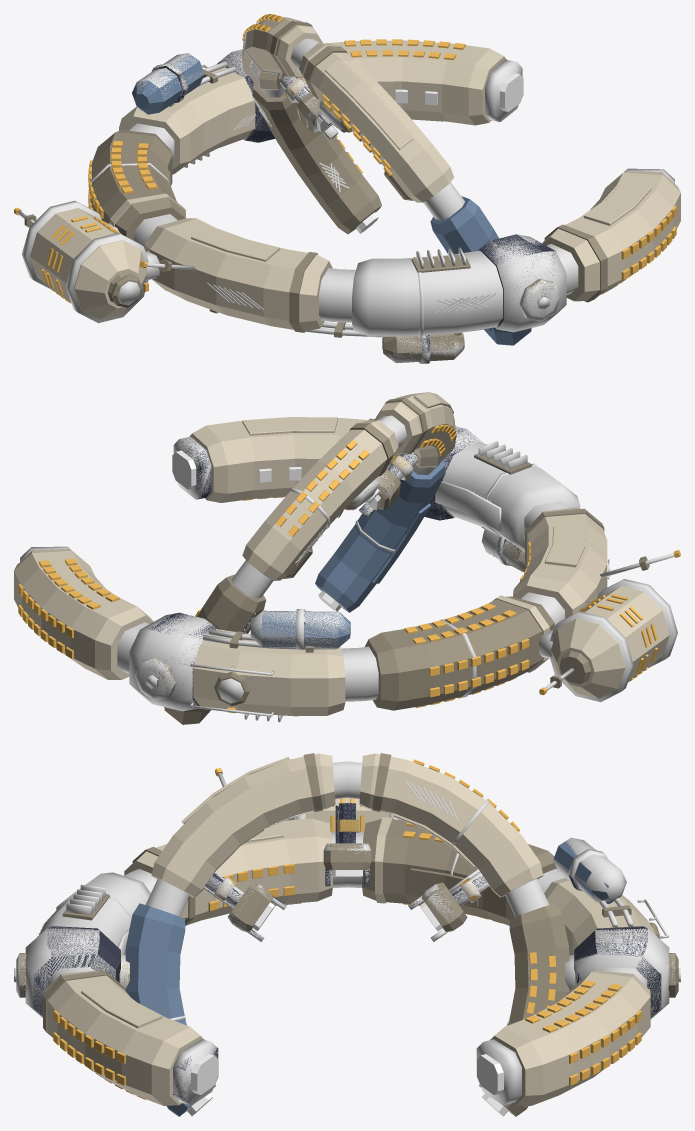
Rendered from gate4-repair-station.fbx.
The picture shows the model from 3 angles, top to bottom: view 1: azimuth 30°, elevation 25°; view 2: azimuth 150°, elevation 25°; view 3: azimuth 270°, elevation 25°; orthographic projection. The views are drawn at different scales.
Visible parts, largest first — view 1: Outer ring / bone, Outer ring / contour, Inner ring / bone, Inner ring / canvas, Crew pod / bone, Outer ring / canvas, Bearing B / contour, Outer ring / win, Outer ring / bone / fine, Outer ring / canvas / fine, Crew pod / contour, Inner ring / blue (+18 smaller); view 2: Outer ring / bone, Inner ring / bone, Outer ring / canvas, Outer ring / contour, Crew pod / bone, Inner ring / blue, Outer ring / win, Outer ring / contour fine, Bearing A / contour, Outer ring / bone / fine, Tank A / contour, Crew pod / contour (+18 smaller); view 3: Outer ring / bone, Inner ring / bone, Outer ring / canvas, Inner ring / blue, Outer ring / win, Inner ring / canvas, Outer ring / contour, Bearing A / contour, Bearing B / contour, Inner ring / contour, Bearing B / slate, Outer ring / bone / fine (+20 smaller).
Part boxes in pixels (bbox=[...]): Outer ring / bone: bbox=[119, 40, 680, 331]; Outer ring / contour: bbox=[129, 78, 578, 336]; Inner ring / bone: bbox=[242, 17, 454, 202]; Inner ring / canvas: bbox=[252, 82, 381, 234]; Crew pod / bone: bbox=[30, 208, 147, 319]; Outer ring / canvas: bbox=[92, 130, 185, 240]; Bearing B / contour: bbox=[484, 234, 566, 332]; Outer ring / win: bbox=[88, 39, 676, 294]; Outer ring / bone / fine: bbox=[110, 119, 651, 261]; Outer ring / canvas / fine: bbox=[158, 69, 607, 337]; Crew pod / contour: bbox=[22, 200, 159, 323]; Inner ring / blue: bbox=[430, 196, 531, 345]; Outer ring / bone: bbox=[14, 418, 607, 715]; Inner ring / bone: bbox=[242, 392, 455, 580]; Outer ring / canvas: bbox=[365, 596, 554, 710]; Outer ring / contour: bbox=[117, 441, 580, 701]; Crew pod / bone: bbox=[550, 586, 669, 698]; Inner ring / blue: bbox=[315, 459, 445, 612]; Outer ring / win: bbox=[18, 497, 680, 713]; Outer ring / contour fine: bbox=[190, 441, 674, 722]; Bearing A / contour: bbox=[129, 613, 216, 711]; Outer ring / bone / fine: bbox=[242, 417, 585, 716]; Tank A / contour: bbox=[250, 609, 350, 649]; Crew pod / contour: bbox=[539, 579, 677, 702]; Outer ring / bone: bbox=[44, 818, 655, 1105]; Inner ring / bone: bbox=[151, 753, 543, 897]; Outer ring / canvas: bbox=[362, 819, 556, 925]; Inner ring / blue: bbox=[125, 903, 215, 1116]; Outer ring / win: bbox=[53, 768, 641, 1099]; Inner ring / canvas: bbox=[479, 903, 569, 1116]; Outer ring / contour: bbox=[39, 831, 647, 986]; Bearing A / contour: bbox=[565, 926, 669, 1019]; Bearing B / contour: bbox=[25, 926, 129, 1017]; Inner ring / contour: bbox=[145, 761, 549, 1112]; Bearing B / slate: bbox=[33, 926, 120, 1015]; Outer ring / bone / fine: bbox=[81, 817, 392, 1028].
Bounding box in the file's own units: 29 × 14.18 × 28.51.
